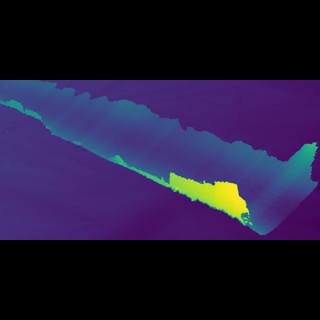Loch: (2, 118, 318, 198)
